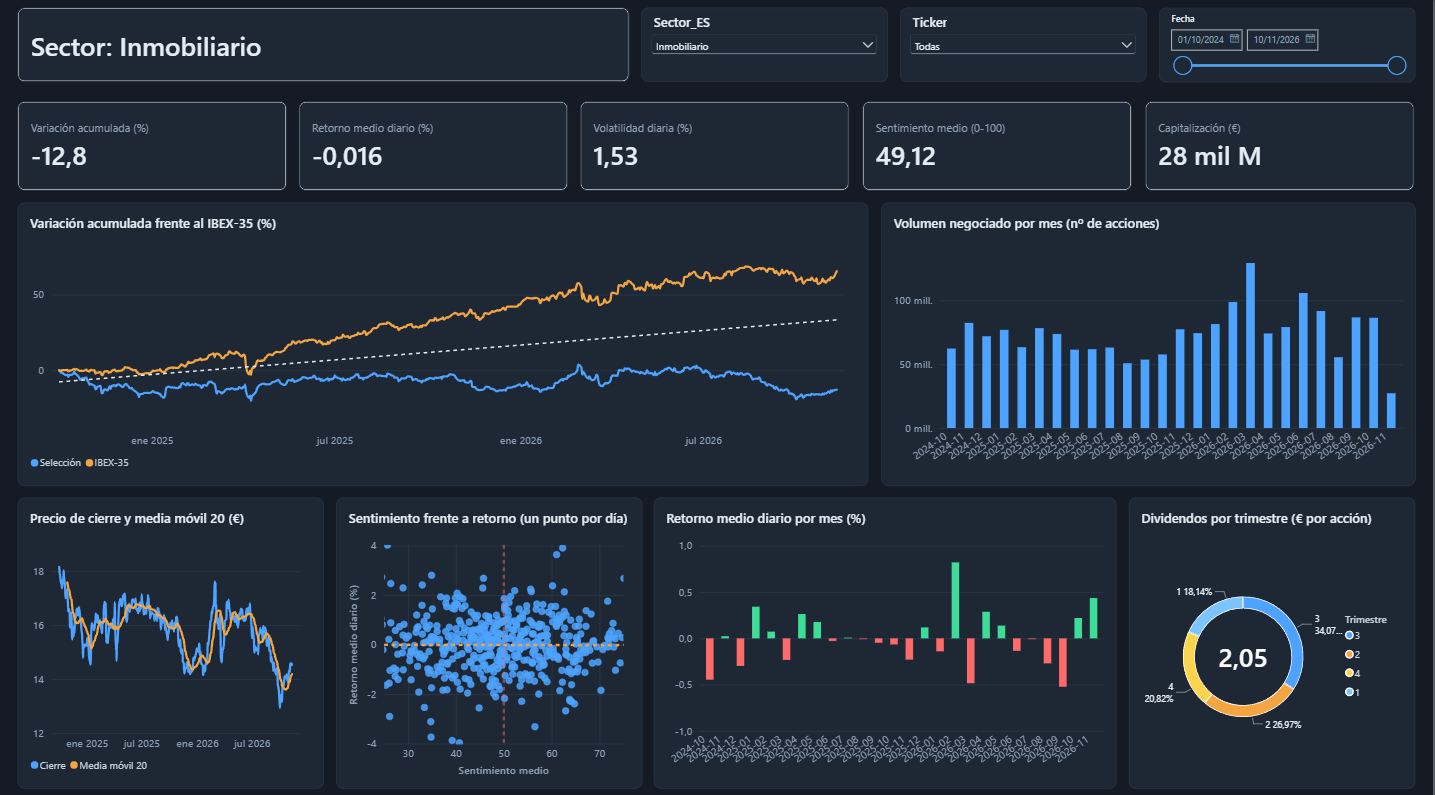

This screenshot's page, from the dashboard's own definition file:
{"tool":"powerbi","page":{"name":"Dashboard","canvas":[1920,1080],"ordinal":3},"visuals":[{"type":"slicer","fields":{"Values":["Empresa.Sector_ES"]},"box":[753.5,31.4,280.8,68],"z":0},{"type":"slicer","fields":{"Values":["Empresa.Ticker"]},"box":[1055.2,26.2,280.8,80.2],"z":1000},{"type":"slicer","fields":{"Values":["Fecha.Fecha"]},"box":[1360.5,19.2,280.8,95.9],"z":2000},{"type":"cardVisual","fields":{"Data":["Hechos.Variacion Acumulada"]},"box":[36.6,115.1,218,174.4],"z":3000},{"type":"cardVisual","fields":{"Data":["Hechos.Retorno Medio Diario"]},"box":[375,115.1,218,174.4],"z":4000},{"type":"cardVisual","fields":{"Data":["Hechos.Volatilidad Diaria"]},"box":[741.3,115.1,218,174.4],"z":5000},{"type":"cardVisual","fields":{"Data":["Hechos.Sentimiento Medio"]},"box":[1088.4,115.1,218,174.4],"z":6000},{"type":"cardVisual","fields":{"Data":["Hechos.Capitalizacion Total"]},"box":[1447.7,115.1,218,174.4],"z":7000},{"type":"lineChart","fields":{"Category":["Fecha.Fecha"],"Y":["Hechos.Var Acum Seleccion","Hechos.Var Acum IBEX"]},"box":[43.6,314,1058.7,376.7],"z":8000},{"type":"clusteredColumnChart","fields":{"Category":["Fecha.AnioMes"],"Y":["Sum(Hechos.Volume)"]},"box":[1133.7,314,736,376.7],"z":9000},{"type":"lineChart","fields":{"Category":["Fecha.Fecha"],"Y":["Avg(Hechos.Close)","Avg(Hechos.Media_Movil_20)"]},"box":[66.3,711.6,395.9,322.7],"z":10000},{"type":"scatterChart","fields":{"Category":["Fecha.Fecha"],"X":["Hechos.Sentimiento Medio"],"Y":["Hechos.Retorno Medio Diario"]},"box":[462.2,711.6,444.8,322.7],"z":11000},{"type":"clusteredColumnChart","fields":{"Category":["Fecha.AnioMes"],"Y":["Hechos.Retorno Medio Diario"]},"box":[907,711.6,610.5,322.7],"z":12000},{"type":"donutChart","fields":{"Category":["Fecha.Trimestre"],"Y":["Sum(Hechos.Dividends)"]},"box":[1517.4,711.6,385.5,322.7],"z":13000},{"type":"cardVisual","fields":{"Data":["Hechos.Titulo Dashboard"]},"box":[66.3,19.2,556.4,75],"z":13001}]}

Visuals, with their boxes in screenshot pixels (x1, y1, x2, y2), scaled from the page's 1920x1080 canvas onto the 1435x795 screenshot:
slicer - Empresa.Sector_ES: pyautogui.locateOnScreen(563, 23, 773, 73)
slicer - Empresa.Ticker: pyautogui.locateOnScreen(789, 19, 999, 78)
slicer - Fecha.Fecha: pyautogui.locateOnScreen(1017, 14, 1227, 85)
cardVisual - Hechos.Variacion Acumulada: pyautogui.locateOnScreen(27, 85, 190, 213)
cardVisual - Hechos.Retorno Medio Diario: pyautogui.locateOnScreen(280, 85, 443, 213)
cardVisual - Hechos.Volatilidad Diaria: pyautogui.locateOnScreen(554, 85, 717, 213)
cardVisual - Hechos.Sentimiento Medio: pyautogui.locateOnScreen(813, 85, 976, 213)
cardVisual - Hechos.Capitalizacion Total: pyautogui.locateOnScreen(1082, 85, 1245, 213)
lineChart - Fecha.Fecha x Hechos.Var Acum Seleccion: pyautogui.locateOnScreen(33, 231, 824, 508)
clusteredColumnChart - Fecha.AnioMes x Sum(Hechos.Volume): pyautogui.locateOnScreen(847, 231, 1397, 508)
lineChart - Fecha.Fecha x Avg(Hechos.Close): pyautogui.locateOnScreen(50, 524, 345, 761)
scatterChart - Fecha.Fecha x Hechos.Sentimiento Medio: pyautogui.locateOnScreen(345, 524, 678, 761)
clusteredColumnChart - Fecha.AnioMes x Hechos.Retorno Medio Diario: pyautogui.locateOnScreen(678, 524, 1134, 761)
donutChart - Fecha.Trimestre x Sum(Hechos.Dividends): pyautogui.locateOnScreen(1134, 524, 1422, 761)
cardVisual - Hechos.Titulo Dashboard: pyautogui.locateOnScreen(50, 14, 465, 69)
